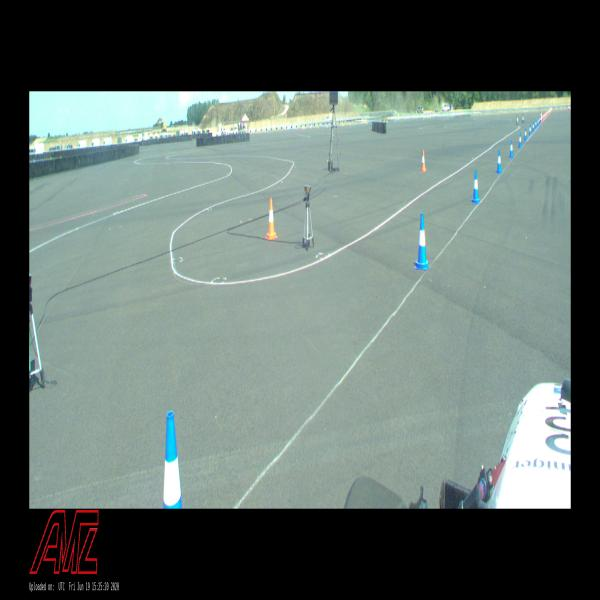blue_cone: (163, 412, 182, 506), (415, 214, 430, 270), (472, 169, 480, 203), (496, 150, 502, 173), (509, 140, 514, 157), (518, 133, 522, 147), (524, 128, 527, 140), (532, 122, 535, 131), (529, 125, 531, 136), (535, 120, 537, 129), (537, 118, 539, 126), (539, 117, 541, 124)
large_orange_cone: (540, 111, 542, 122)
orange_cone: (266, 199, 278, 238), (420, 150, 426, 172)
